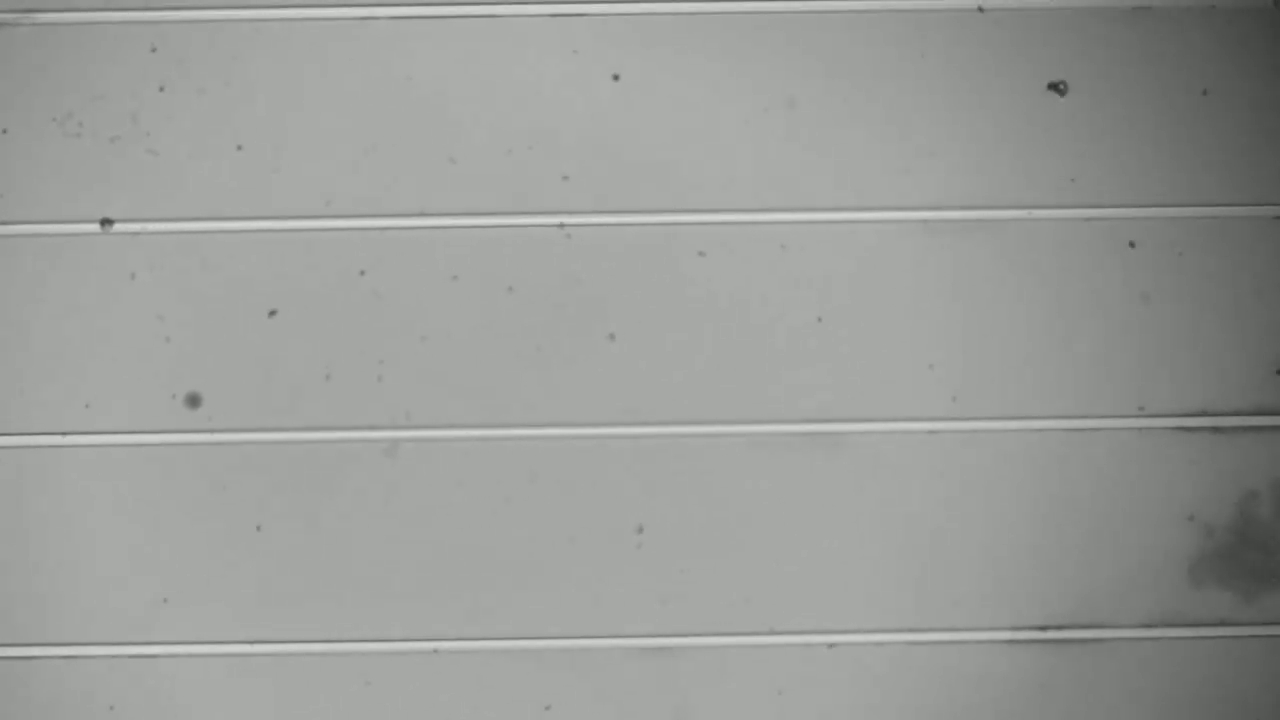stains_enbedded: (97, 212, 120, 242)
